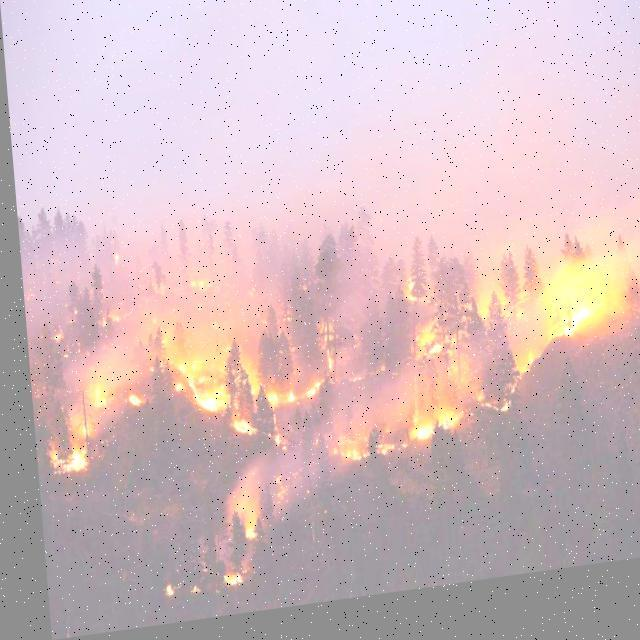Fire: (29, 175, 620, 588)
